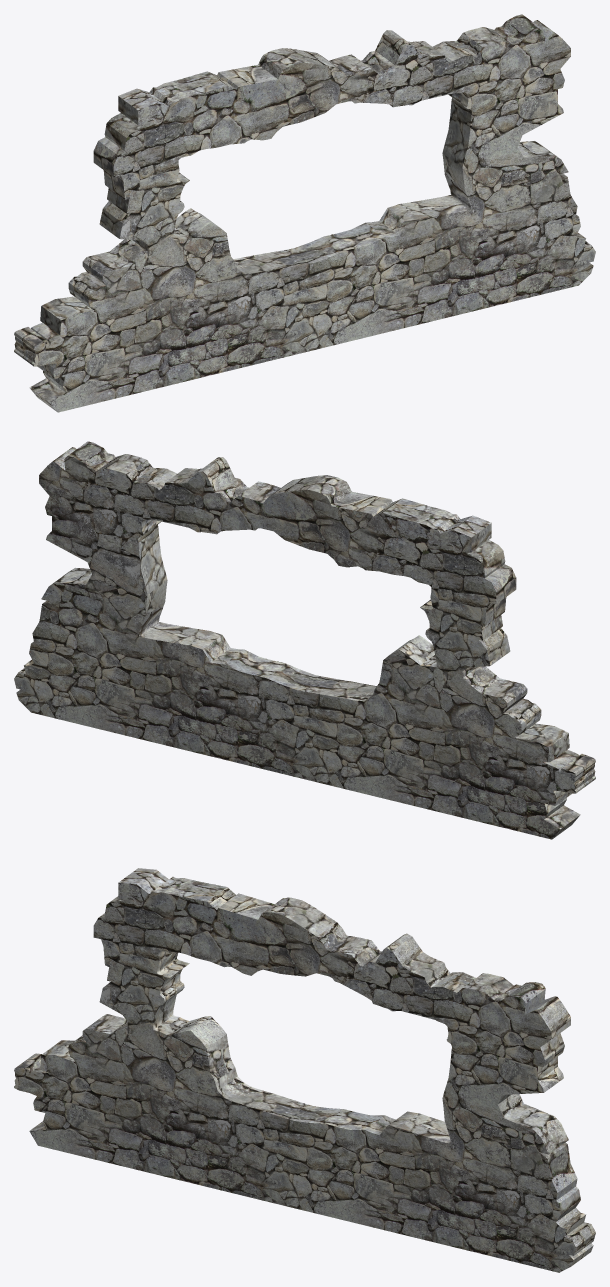
Rendered from zid7.fbx.
3 renders of one model, top to bottom at view 1: azimuth 30°, elevation 25°; view 2: azimuth 150°, elevation 25°; view 3: azimuth 330°, elevation 25°, orthographic.
Parts seen in each view (by area): view 1: Mesh7; view 2: Mesh7; view 3: Mesh7.
Part boxes in pixels (box(x1,y1,x2,y2)): Mesh7: box(14, 14, 595, 412); Mesh7: box(14, 441, 595, 839); Mesh7: box(14, 868, 595, 1272).
Size of the model in its own units: 9.9 by 4.89 by 0.61.
